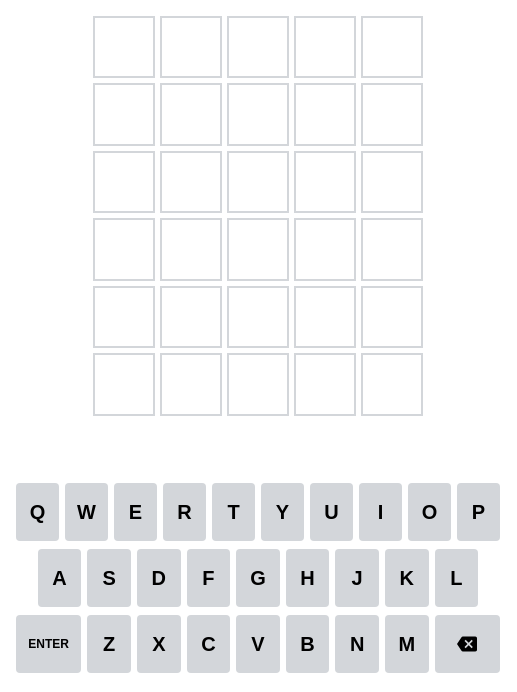
it: Game › adds letters to the current guess
Click the button "a": (60, 578) [38,549,81,607]
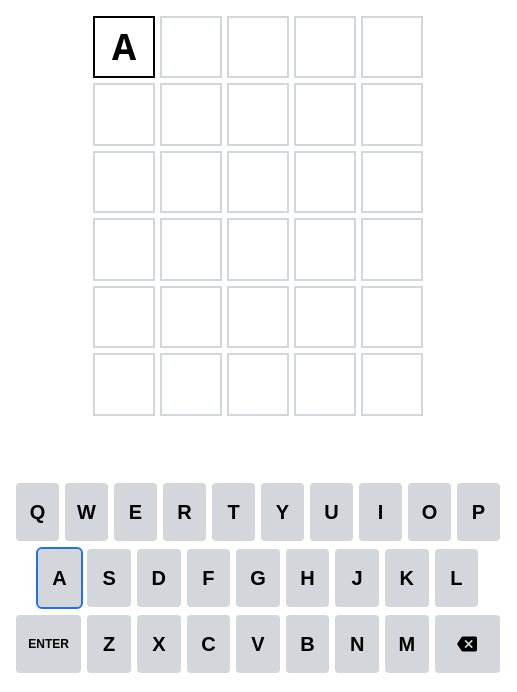
Expected: the picture with test id "tile" reads "a", [112,23,136,70]
Click the button "b": (308, 644) [286,615,329,673]
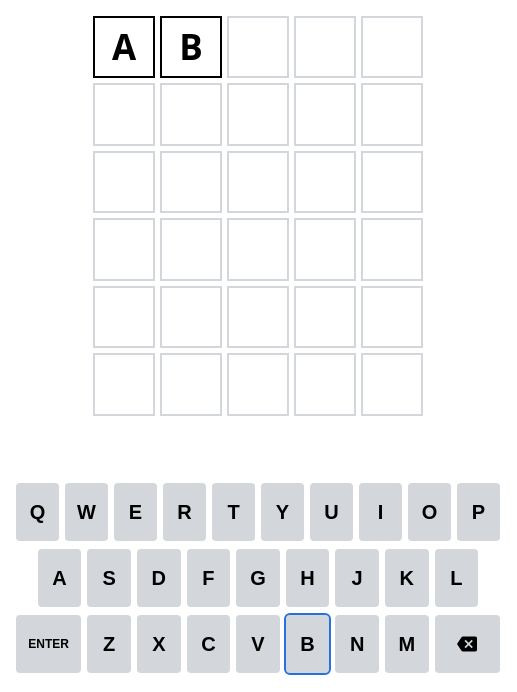
Expected: the picture with test id "tile" reads "b", [179,23,203,70]
